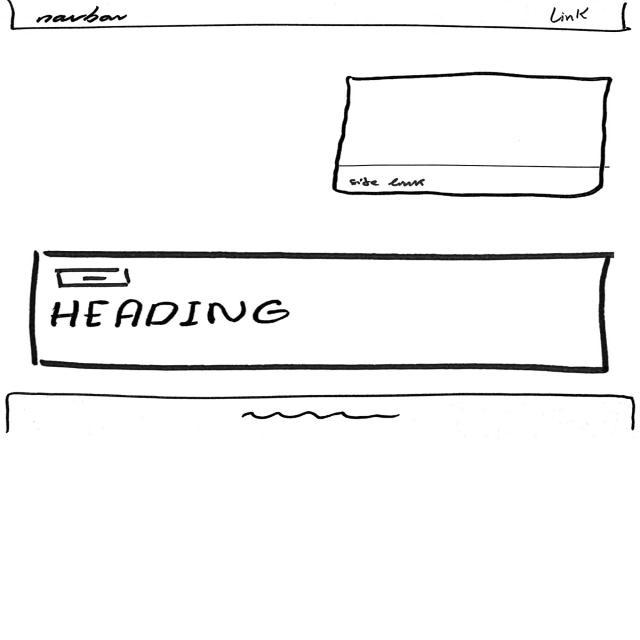container: (30, 250, 612, 375), (332, 71, 611, 198), (7, 1, 628, 33)
icon-button: (54, 268, 135, 290)
label: (51, 299, 291, 332), (33, 7, 131, 24), (350, 177, 429, 189), (548, 6, 592, 24)
text: (243, 411, 403, 424)
